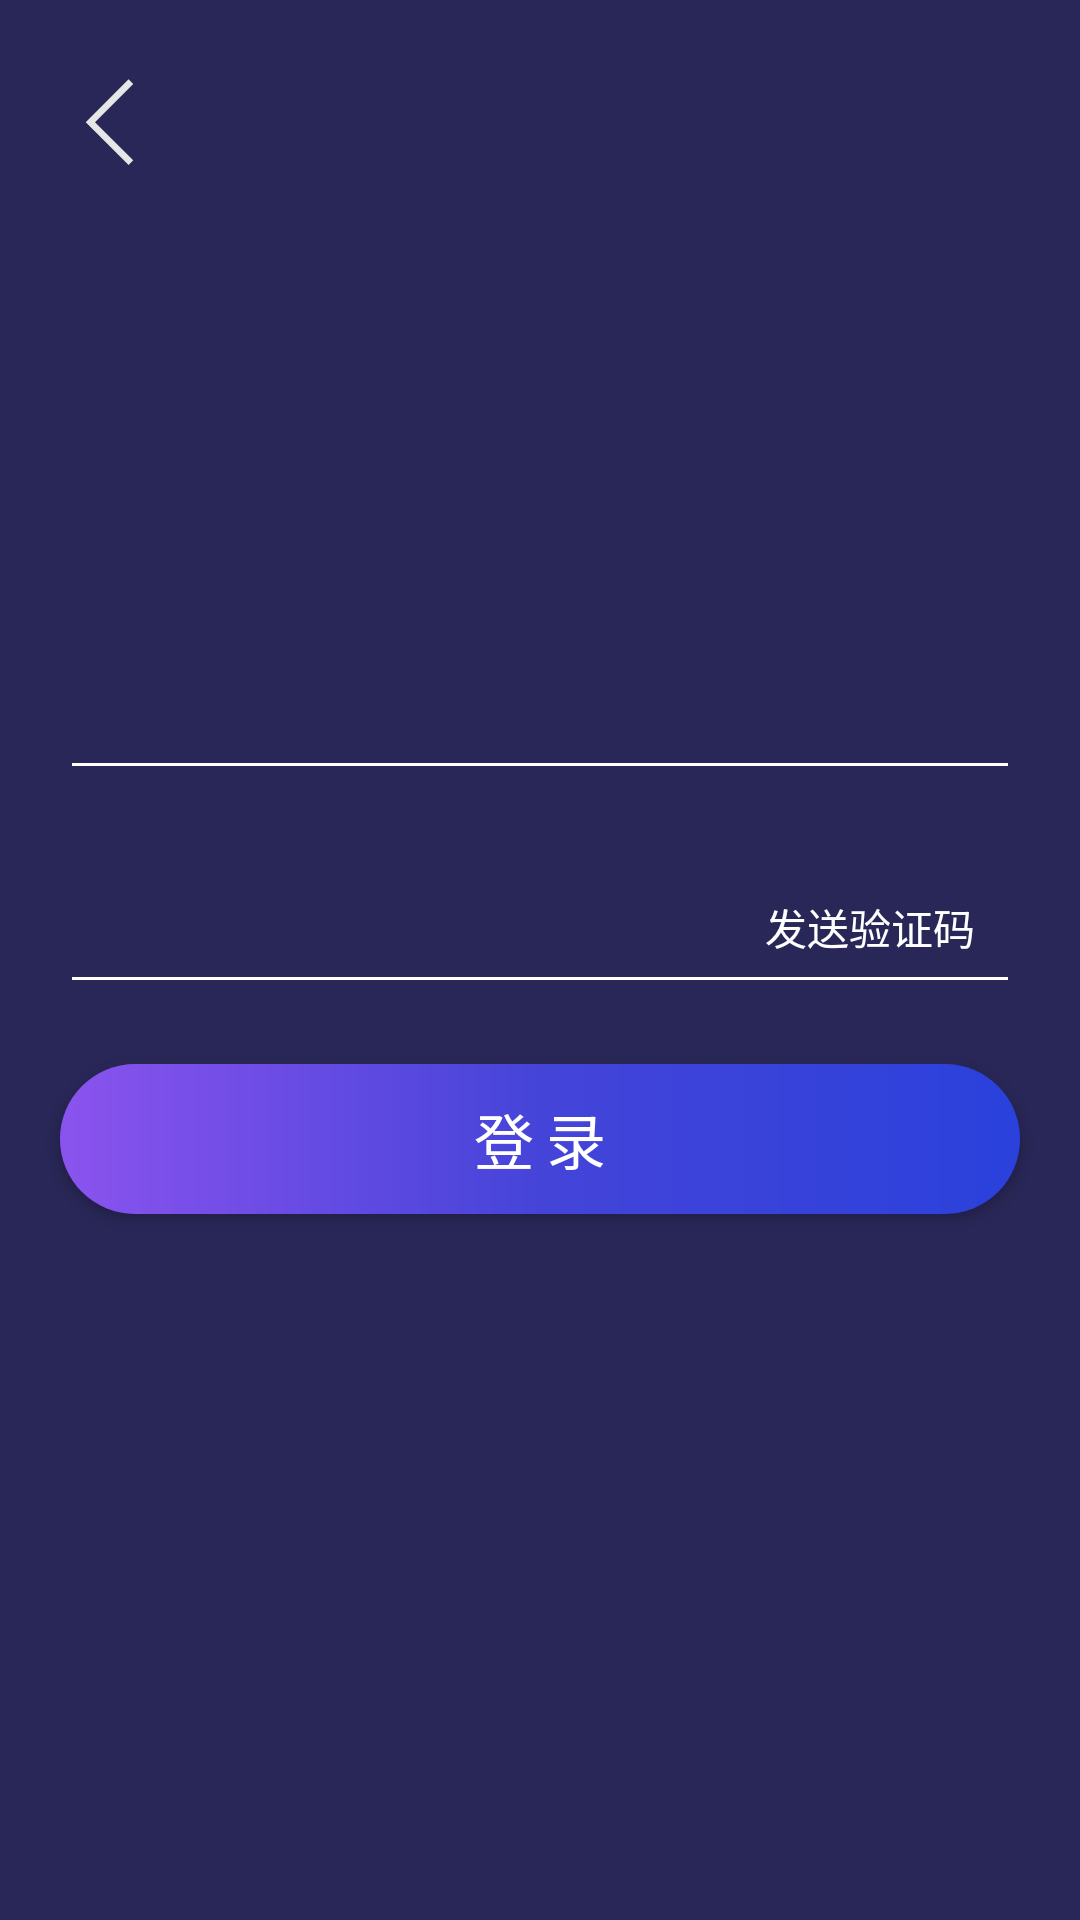

Icon click points for this 1080x1920 phone screenshot, format point (x, y):
back: point (109, 122)
